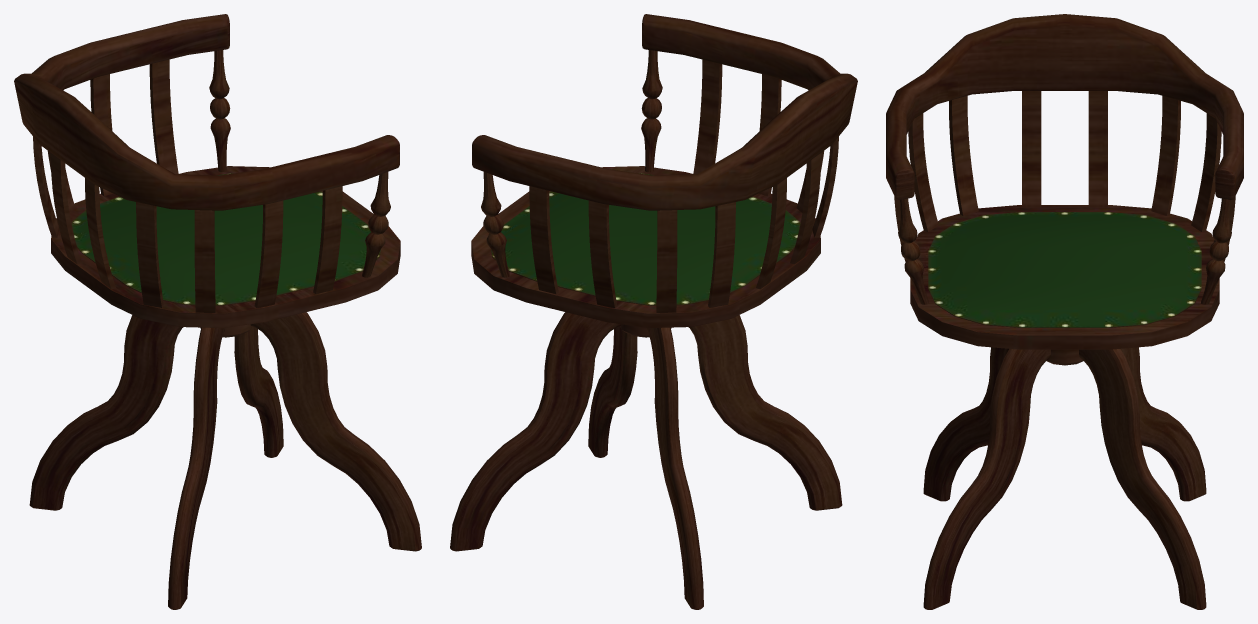
Rendered from chair-desk-victorian.glb.
3 views of the same model, side by side, from view 1: azimuth 30°, elevation 25°; view 2: azimuth 150°, elevation 25°; view 3: azimuth 270°, elevation 25° (orthographic). The views are drawn at different scales.
Visible parts, largest first — view 1: chair-desk-victorian; view 2: chair-desk-victorian; view 3: chair-desk-victorian.
Boxes of the visible parts, left/top/right/bottom form: chair-desk-victorian: left=14, top=14, right=421, bottom=609; chair-desk-victorian: left=450, top=14, right=857, bottom=609; chair-desk-victorian: left=886, top=14, right=1243, bottom=609.
Size of the model in its own units: 0.5566 by 0.8205 by 0.5782.
1 material, 1 textured.
